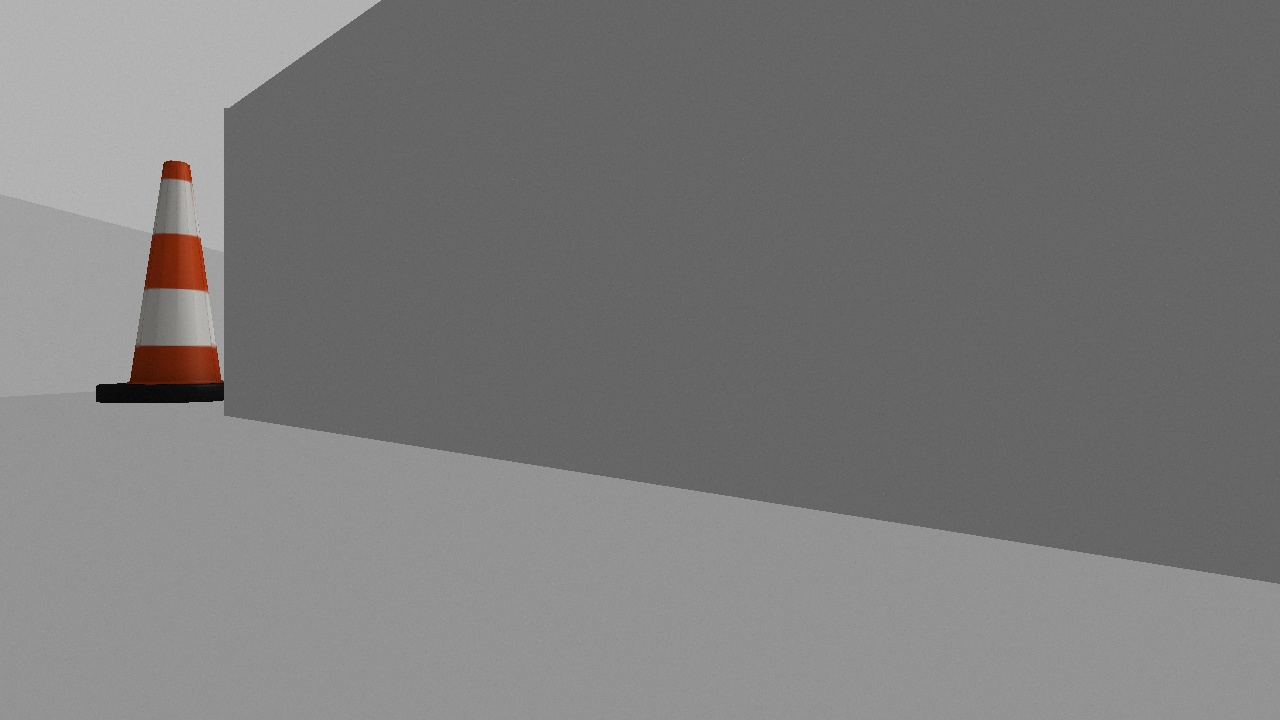barricade: (92, 152, 239, 405)
